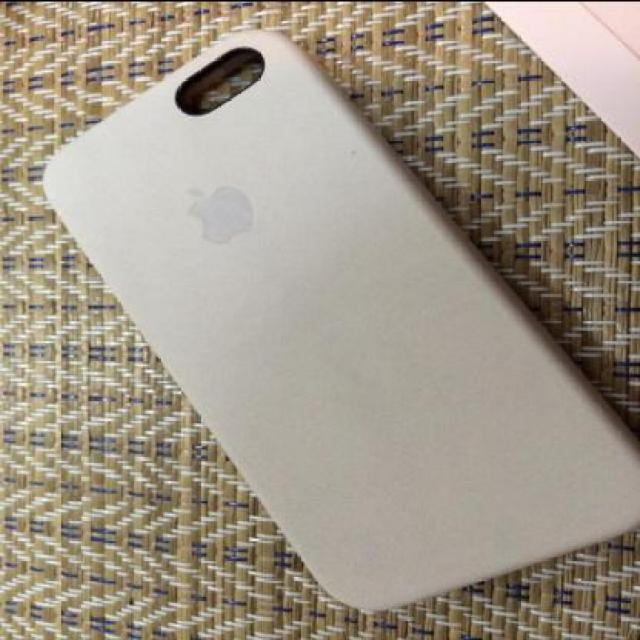phone: (41, 26, 639, 612)
